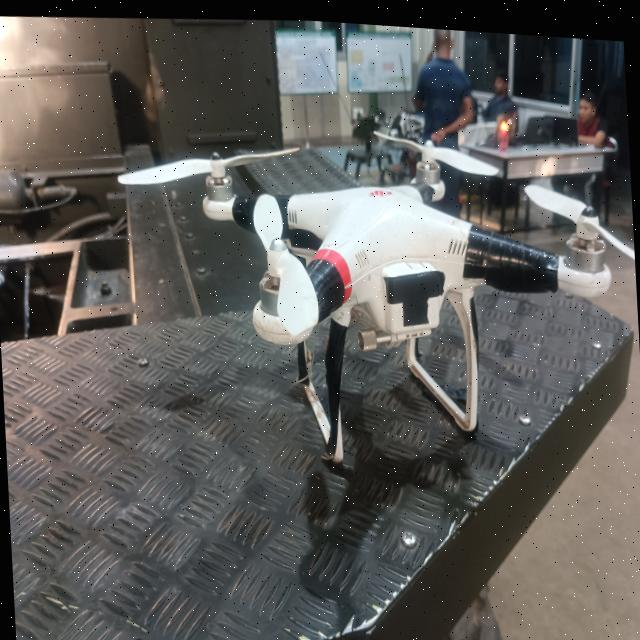drone: (91, 85, 640, 506)
